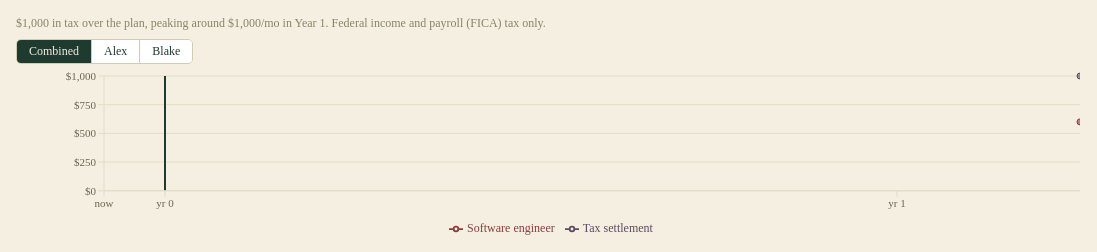
Test: TaxChart — whose April settlement › never draws the household band and a person's slice together
Click the button "Alex" at x=115, y=52, box [91,40,139,63]
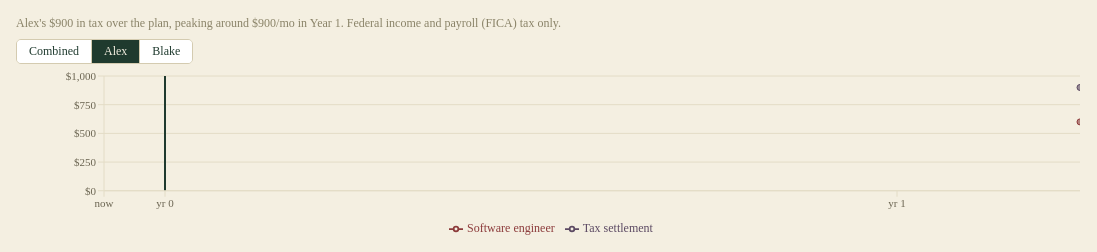
Result: the text with test id "tax-summary" shows "Alex's $900 in tax" at [16,16,561,30]
